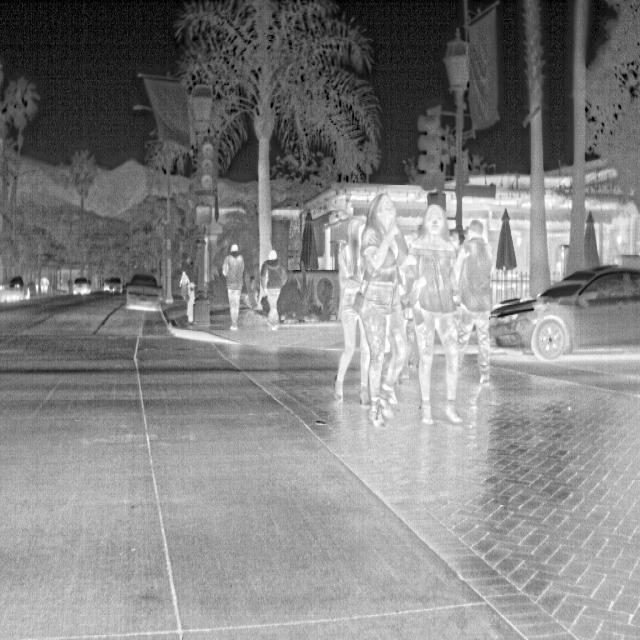Pedestrian: (406, 202, 464, 426), (360, 190, 410, 430), (329, 216, 373, 409), (451, 216, 492, 392), (257, 248, 289, 330), (220, 242, 245, 332), (178, 270, 191, 300)
Vehicle: (487, 260, 638, 364), (124, 272, 163, 312)
